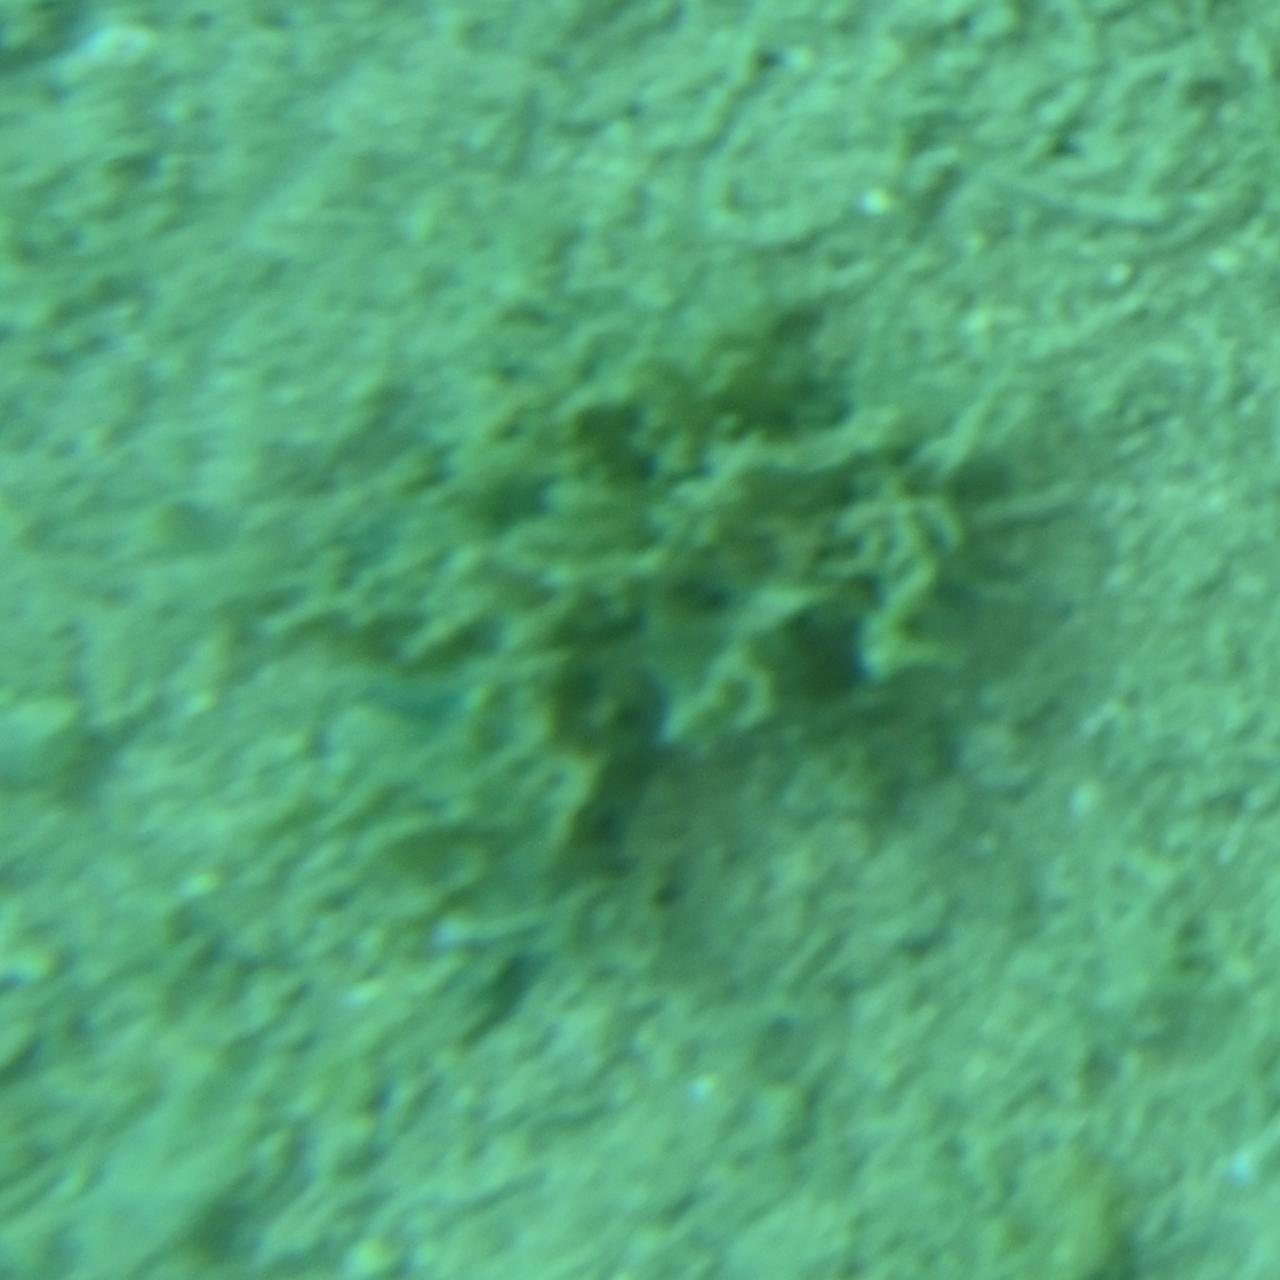Phaeophyceae -cfr Cystoseira-: (248, 334, 1032, 946)
